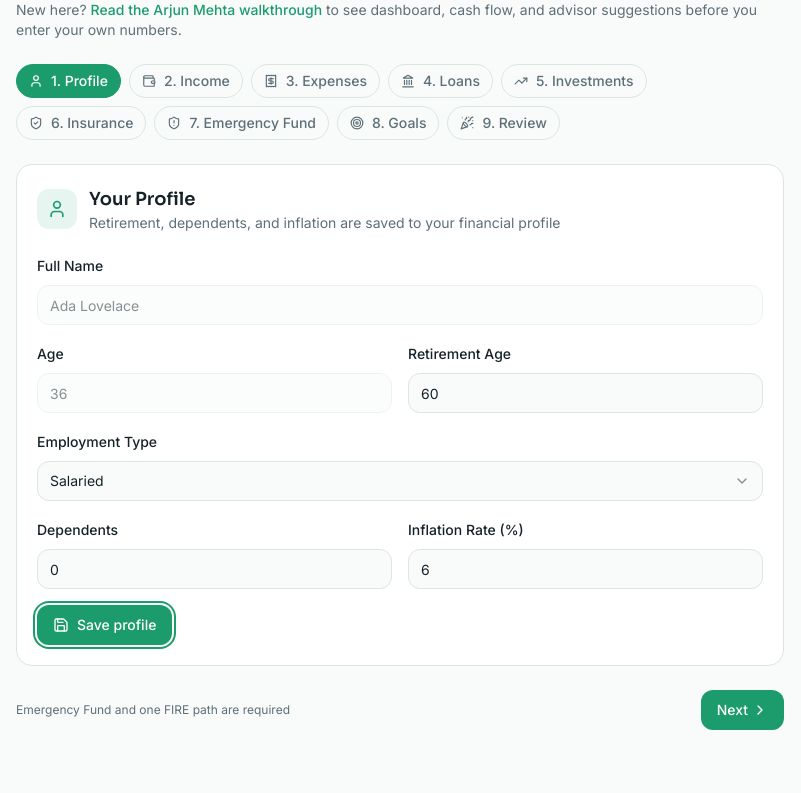
SetupWizard › renders family member forms when dependents is increased
Replace the text in the number field labelled "Dependents" with "2" at (214, 569), box [37, 549, 392, 589]
(page scrolled)
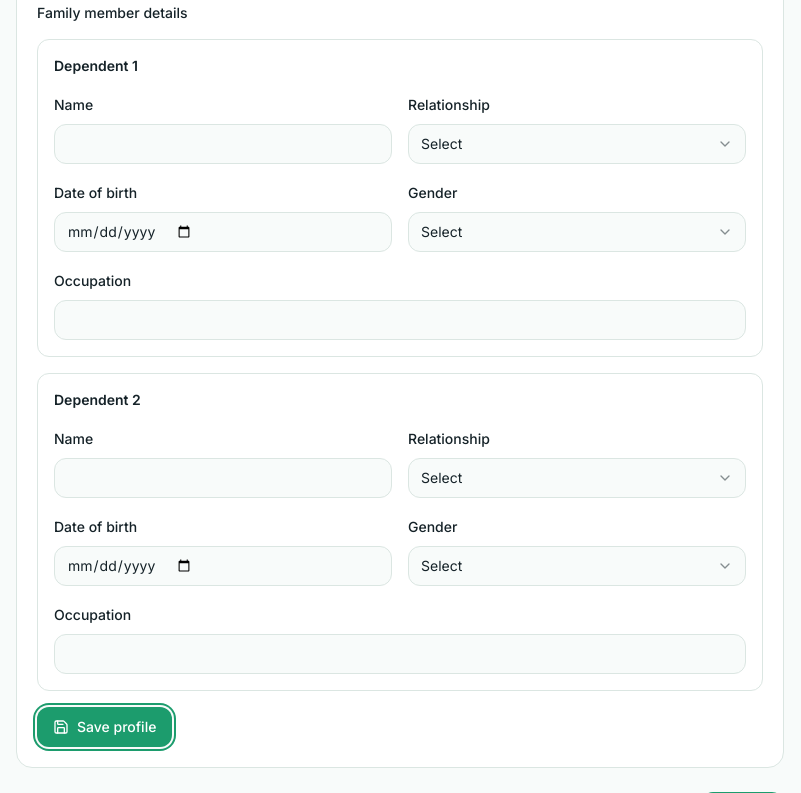
Now the text "Dependent 1" is shown, box [54, 57, 138, 74]
Now the text "Dependent 2" is shown, box [54, 391, 141, 408]
Now the number of fields labelled "Name" is 2, box [54, 124, 392, 164]; [54, 458, 392, 498]
